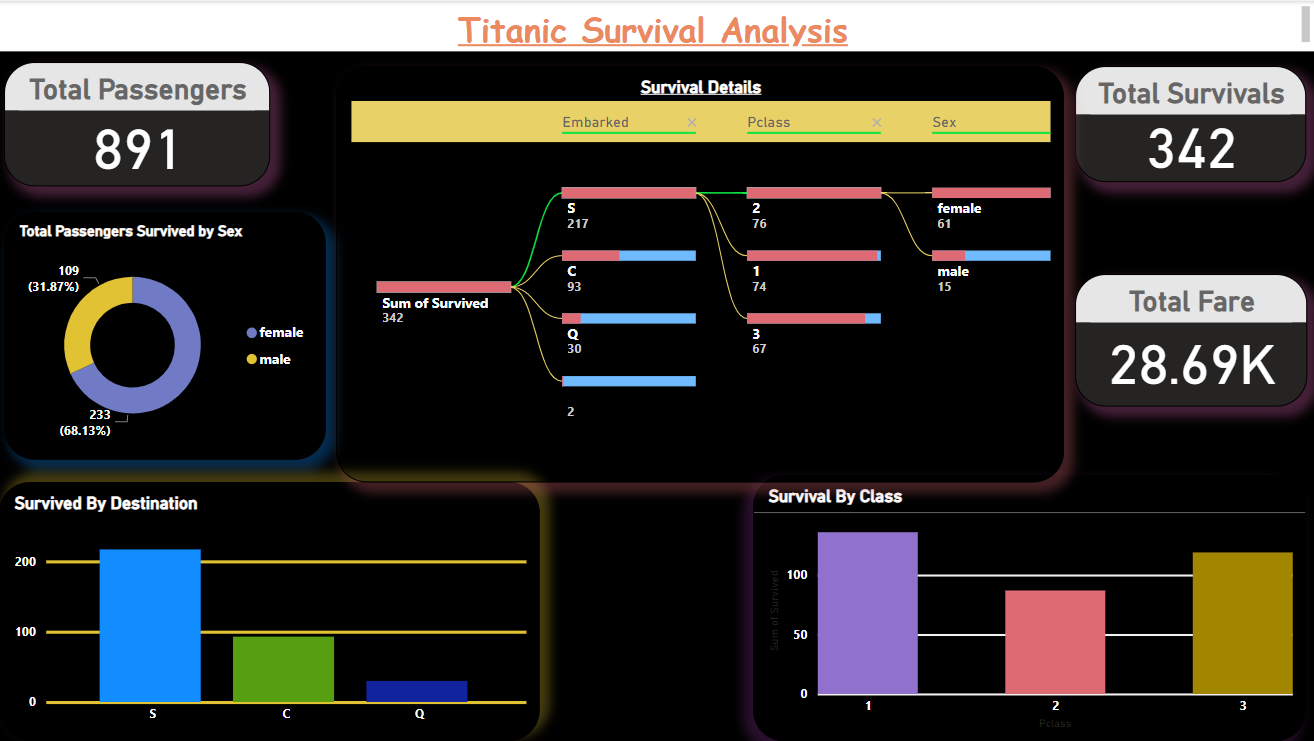

What the dashboard file says about the page in this screenshot:
{"tool":"powerbi","page":{"name":"Page 1","canvas":[1280,720],"ordinal":0},"visuals":[{"type":"donutChart","title":"Total Passengers Survived by Sex","fields":{"Category":["train.Sex"],"Y":["Sum(train.Survived)"]},"box":[4.9,205.2,313.2,241.2],"z":0},{"type":"columnChart","title":"Survival By Class","fields":{"Category":["train.Pclass"],"Y":["Sum(train.Survived)"],"Series":["train.Pclass"]},"box":[733.4,461,537.9,258.7],"z":1000},{"type":"columnChart","title":"Survived By Destination","fields":{"Category":["train.Embarked"],"Y":["Sum(train.Survived)"],"Series":["train.Embarked"]},"box":[0,467.8,526.2,251.9],"z":2000},{"type":"textbox","box":[0,0,1280,48.6],"z":3000},{"type":"card","title":"Total Survivals","fields":{"Values":["Sum(train.Survived)"]},"box":[1046.6,63.2,224.7,112.8],"z":4000},{"type":"card","title":"Total Passengers","fields":{"Values":["CountNonNull(train.PassengerId)"]},"box":[4.9,59.3,258.7,120.6],"z":4001},{"type":"decompositionTreeVisual","title":"Survival Details","fields":{"Analyze":["Sum(train.Survived)"],"ExplainBy":["train.Embarked","train.Pclass","train.Sex"]},"box":[327.8,63.2,708.1,404.6],"z":4002},{"type":"card","title":"Total Fare","fields":{"Values":["Sum(train.Fare)"]},"box":[1046.6,265.5,225.7,129.4],"z":4003}]}

Visuals, with their boxes in screenshot pixels (x1, y1, x2, y2), scaled from the page's 1280x720 canvas onto the 1314x741 screenshot:
"Total Passengers Survived by Sex" donutChart: pyautogui.locateOnScreen(5, 211, 327, 459)
"Survival By Class" columnChart: pyautogui.locateOnScreen(753, 474, 1305, 740)
"Survived By Destination" columnChart: pyautogui.locateOnScreen(0, 481, 540, 740)
textbox: pyautogui.locateOnScreen(0, 0, 1313, 50)
"Total Survivals" card: pyautogui.locateOnScreen(1074, 65, 1305, 181)
"Total Passengers" card: pyautogui.locateOnScreen(5, 61, 271, 185)
"Survival Details" decompositionTreeVisual: pyautogui.locateOnScreen(337, 65, 1063, 481)
"Total Fare" card: pyautogui.locateOnScreen(1074, 273, 1306, 406)
